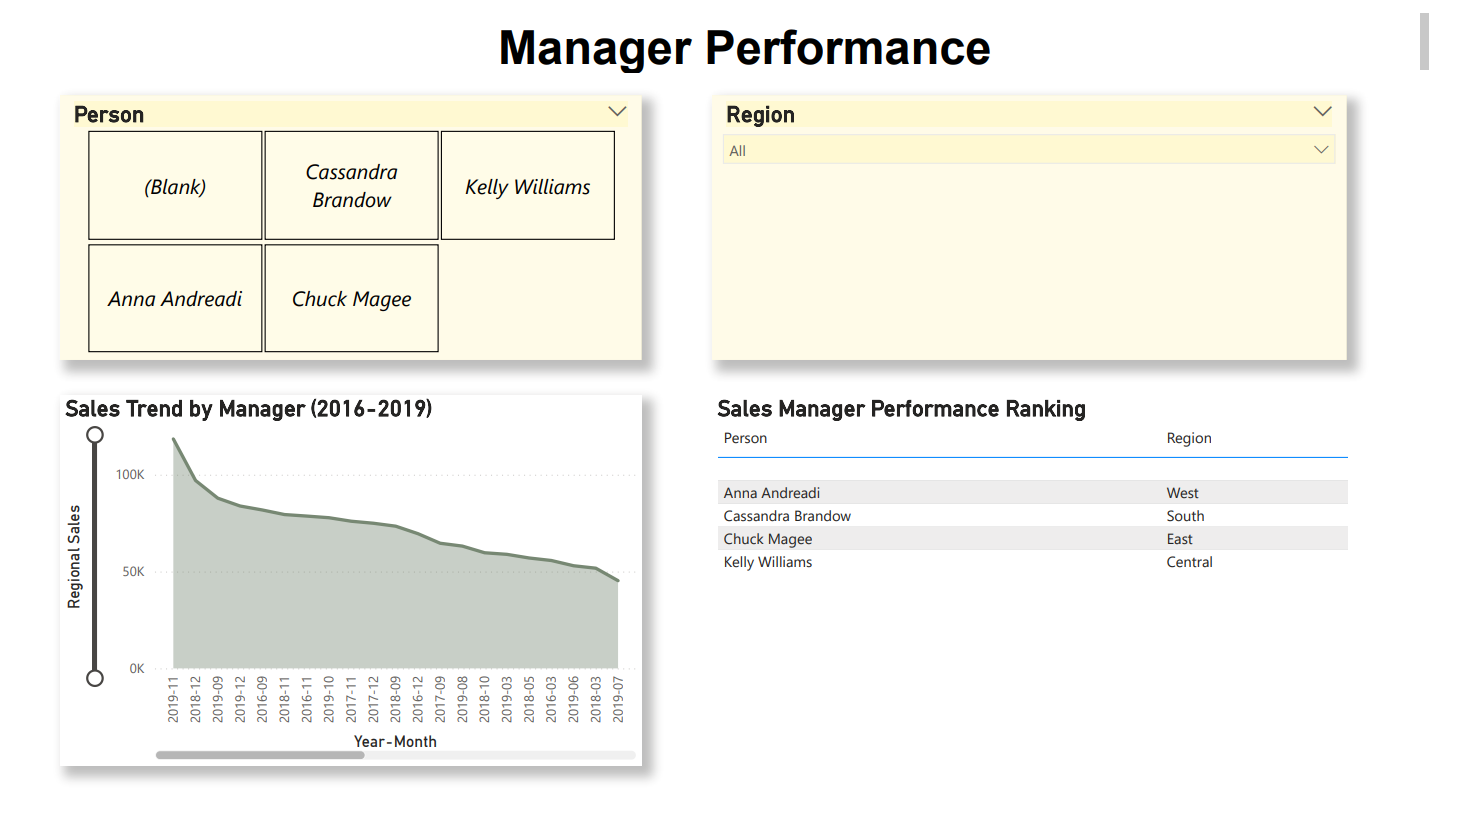

What the dashboard file says about the page in this screenshot:
{"tool":"powerbi","page":{"name":"MANAGER PERFORMANCE & TRENDS","canvas":[1280,720],"ordinal":8},"visuals":[{"type":"textbox","box":[16,0,1264,64],"z":0},{"type":"tableEx","title":"Sales Manager Performance Ranking","fields":{"Values":["People.Person","People.Region"]},"box":[624,400,592,208],"z":2},{"type":"lineChart","title":"Sales Trend by Manager (2016-2019)","fields":{"Category":["Date.Year-Month"],"Y":["Orders.Regional Sales"]},"box":[32,400,528,208],"z":3},{"type":"slicer","fields":{"Values":["People.Person"]},"box":[32,112,528,176],"z":4},{"type":"slicer","fields":{"Values":["Orders.Region"]},"box":[624,112,576,176],"z":5}]}

Visuals, with their boxes in screenshot pixels (x1, y1, x2, y2), scaled from the page's 1280x720 canvas onto the 1458x822 screenshot:
textbox: bbox(18, 0, 1457, 73)
"Sales Manager Performance Ranking" tableEx: bbox(711, 457, 1385, 694)
"Sales Trend by Manager (2016-2019)" lineChart: bbox(36, 457, 638, 694)
slicer - People.Person: bbox(36, 128, 638, 329)
slicer - Orders.Region: bbox(711, 128, 1367, 329)
